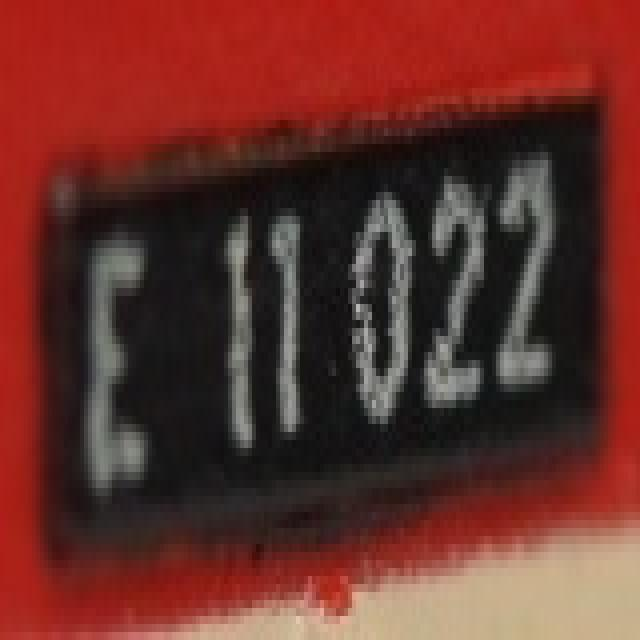licenseplate: (32, 70, 615, 540)
